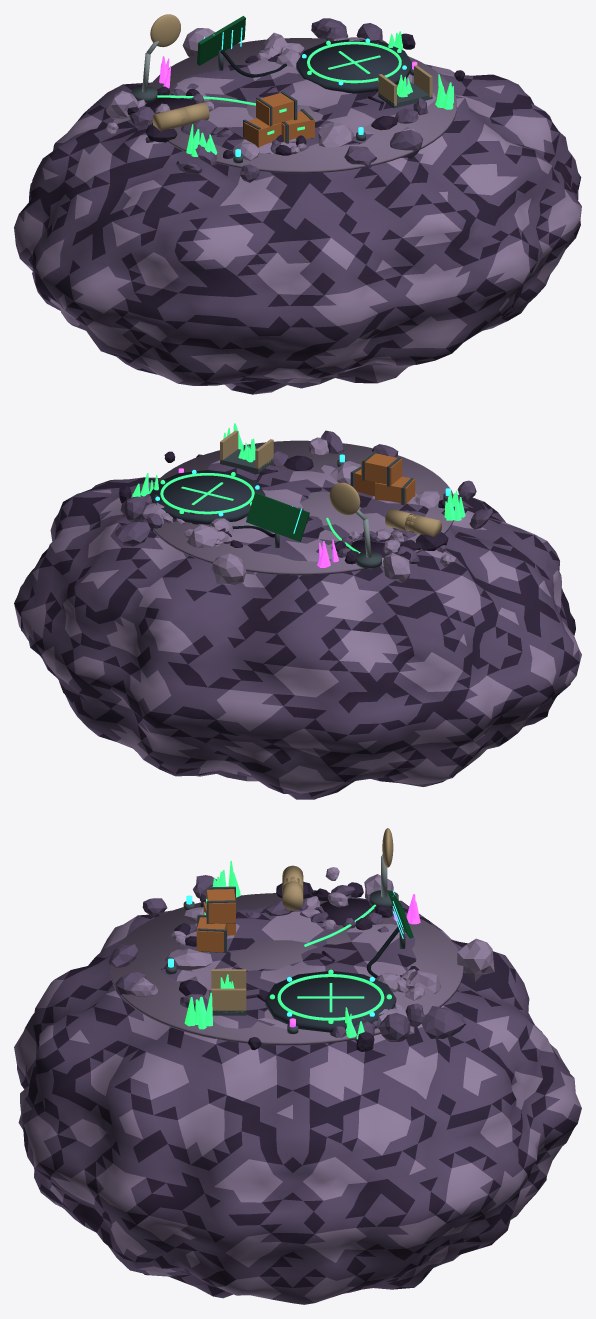
Rendered from Mateo.glb.
3 views of the same model, one above another, from view 1: azimuth 30°, elevation 25°; view 2: azimuth 150°, elevation 25°; view 3: azimuth 270°, elevation 25° (orthographic). The views are drawn at different scales.
Visible parts, largest first — view 1: ASTEROIDE_K04, ZONA_TRANSITABLE, PLATAFORMA_ATERRIZAJE, PANEL_SOLAR_DANADO, CAJA_MINERAL_03_CUERPO, ANTENA_PLATO_DANADO, CAJA_MINERAL_01_CUERPO, ROCA_SUPERFICIAL_25, PLATAFORMA_ARO, DEPOSITO_0, CAJA_MINERAL_02_CUERPO, ROCA_SUPERFICIAL_0 (+2 smaller); view 2: ASTEROIDE_K04, ZONA_TRANSITABLE, PLATAFORMA_ATERRIZAJE, PANEL_SOLAR_DANADO, CAJA_MINERAL_03_CUERPO, ROCA_SUPERFICIAL_29, ANTENA_PLATO_DANADO, CAJA_MINERAL_01_CUERPO, PLATAFORMA_ARO, ROCA_SUPERFICIAL_6, ROCA_SUPERFICIAL_22, DEPOSITO_0 (+4 smaller); view 3: ASTEROIDE_K04, ZONA_TRANSITABLE, PLATAFORMA_ATERRIZAJE, ROCA_SUPERFICIAL_29, ROCA_SUPERFICIAL_6, CAJA_MINERAL_03_CUERPO, PLATAFORMA_ARO, CAJA_MINERAL_02_CUERPO, CRATER_GRANDE_INTERIOR, CONTENEDOR_PARED_1, ROCA_SUPERFICIAL_25, ROCA_SUPERFICIAL_10 (+2 smaller).
Part boxes in pixels (x1,y1,x2,y2): ASTEROIDE_K04: [14, 59, 581, 394]; ZONA_TRANSITABLE: [144, 38, 456, 173]; PLATAFORMA_ATERRIZAJE: [296, 39, 411, 93]; PANEL_SOLAR_DANADO: [197, 16, 245, 65]; CAJA_MINERAL_03_CUERPO: [256, 93, 293, 125]; ANTENA_PLATO_DANADO: [150, 14, 180, 47]; CAJA_MINERAL_01_CUERPO: [243, 118, 281, 147]; ROCA_SUPERFICIAL_25: [318, 122, 353, 147]; PLATAFORMA_ARO: [307, 41, 401, 83]; DEPOSITO_0: [152, 107, 189, 131]; CAJA_MINERAL_02_CUERPO: [281, 110, 314, 142]; ROCA_SUPERFICIAL_0: [390, 129, 423, 158]; ASTEROIDE_K04: [14, 454, 581, 799]; ZONA_TRANSITABLE: [149, 440, 453, 575]; PLATAFORMA_ATERRIZAJE: [149, 470, 265, 524]; PANEL_SOLAR_DANADO: [246, 493, 309, 541]; CAJA_MINERAL_03_CUERPO: [361, 453, 402, 485]; ROCA_SUPERFICIAL_29: [211, 553, 246, 585]; ANTENA_PLATO_DANADO: [329, 482, 360, 515]; CAJA_MINERAL_01_CUERPO: [375, 477, 415, 504]; PLATAFORMA_ARO: [160, 473, 254, 514]; ROCA_SUPERFICIAL_6: [115, 522, 150, 546]; ROCA_SUPERFICIAL_22: [383, 552, 410, 582]; DEPOSITO_0: [405, 514, 441, 536]; ASTEROIDE_K04: [14, 890, 581, 1304]; ZONA_TRANSITABLE: [110, 893, 463, 1045]; PLATAFORMA_ATERRIZAJE: [265, 971, 396, 1032]; ROCA_SUPERFICIAL_29: [457, 938, 494, 981]; ROCA_SUPERFICIAL_6: [421, 1006, 466, 1038]; CAJA_MINERAL_03_CUERPO: [206, 889, 235, 923]; PLATAFORMA_ARO: [277, 974, 384, 1020]; CAJA_MINERAL_02_CUERPO: [196, 917, 227, 952]; CRATER_GRANDE_INTERIOR: [320, 898, 375, 925]; CONTENEDOR_PARED_1: [211, 988, 246, 1012]; ROCA_SUPERFICIAL_25: [165, 948, 212, 970]; ROCA_SUPERFICIAL_10: [378, 1012, 410, 1041].
Size of the model in its own units: 21.81 by 13.81 by 18.65.
